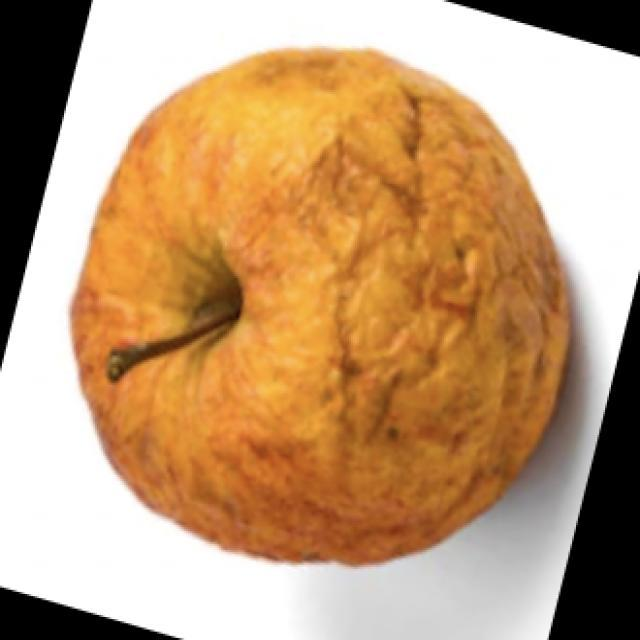Rotten: (116, 58, 576, 562)
